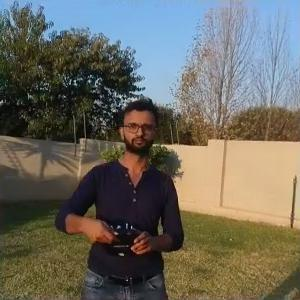follow: (52, 91, 188, 298)
